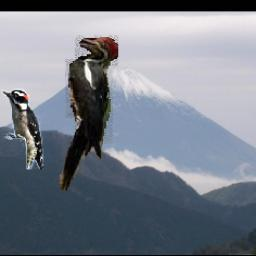Woodpecker: (60, 36, 118, 191), (2, 89, 44, 170)
